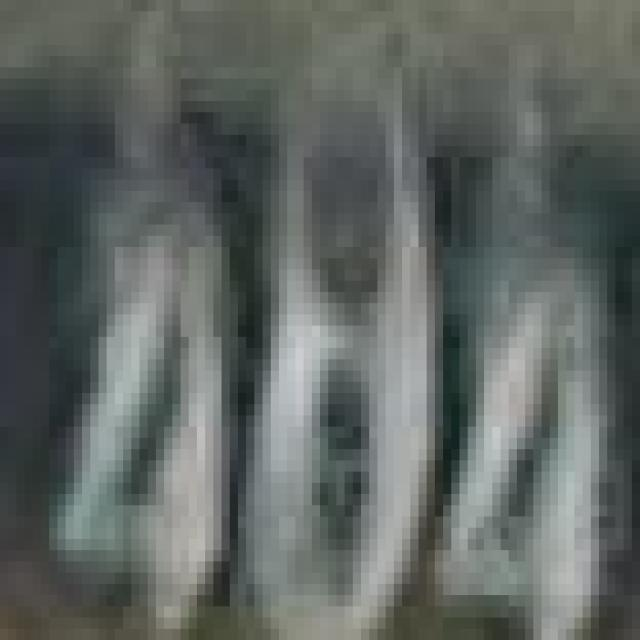character: (48, 213, 227, 640), (244, 282, 432, 640), (443, 295, 614, 640)
